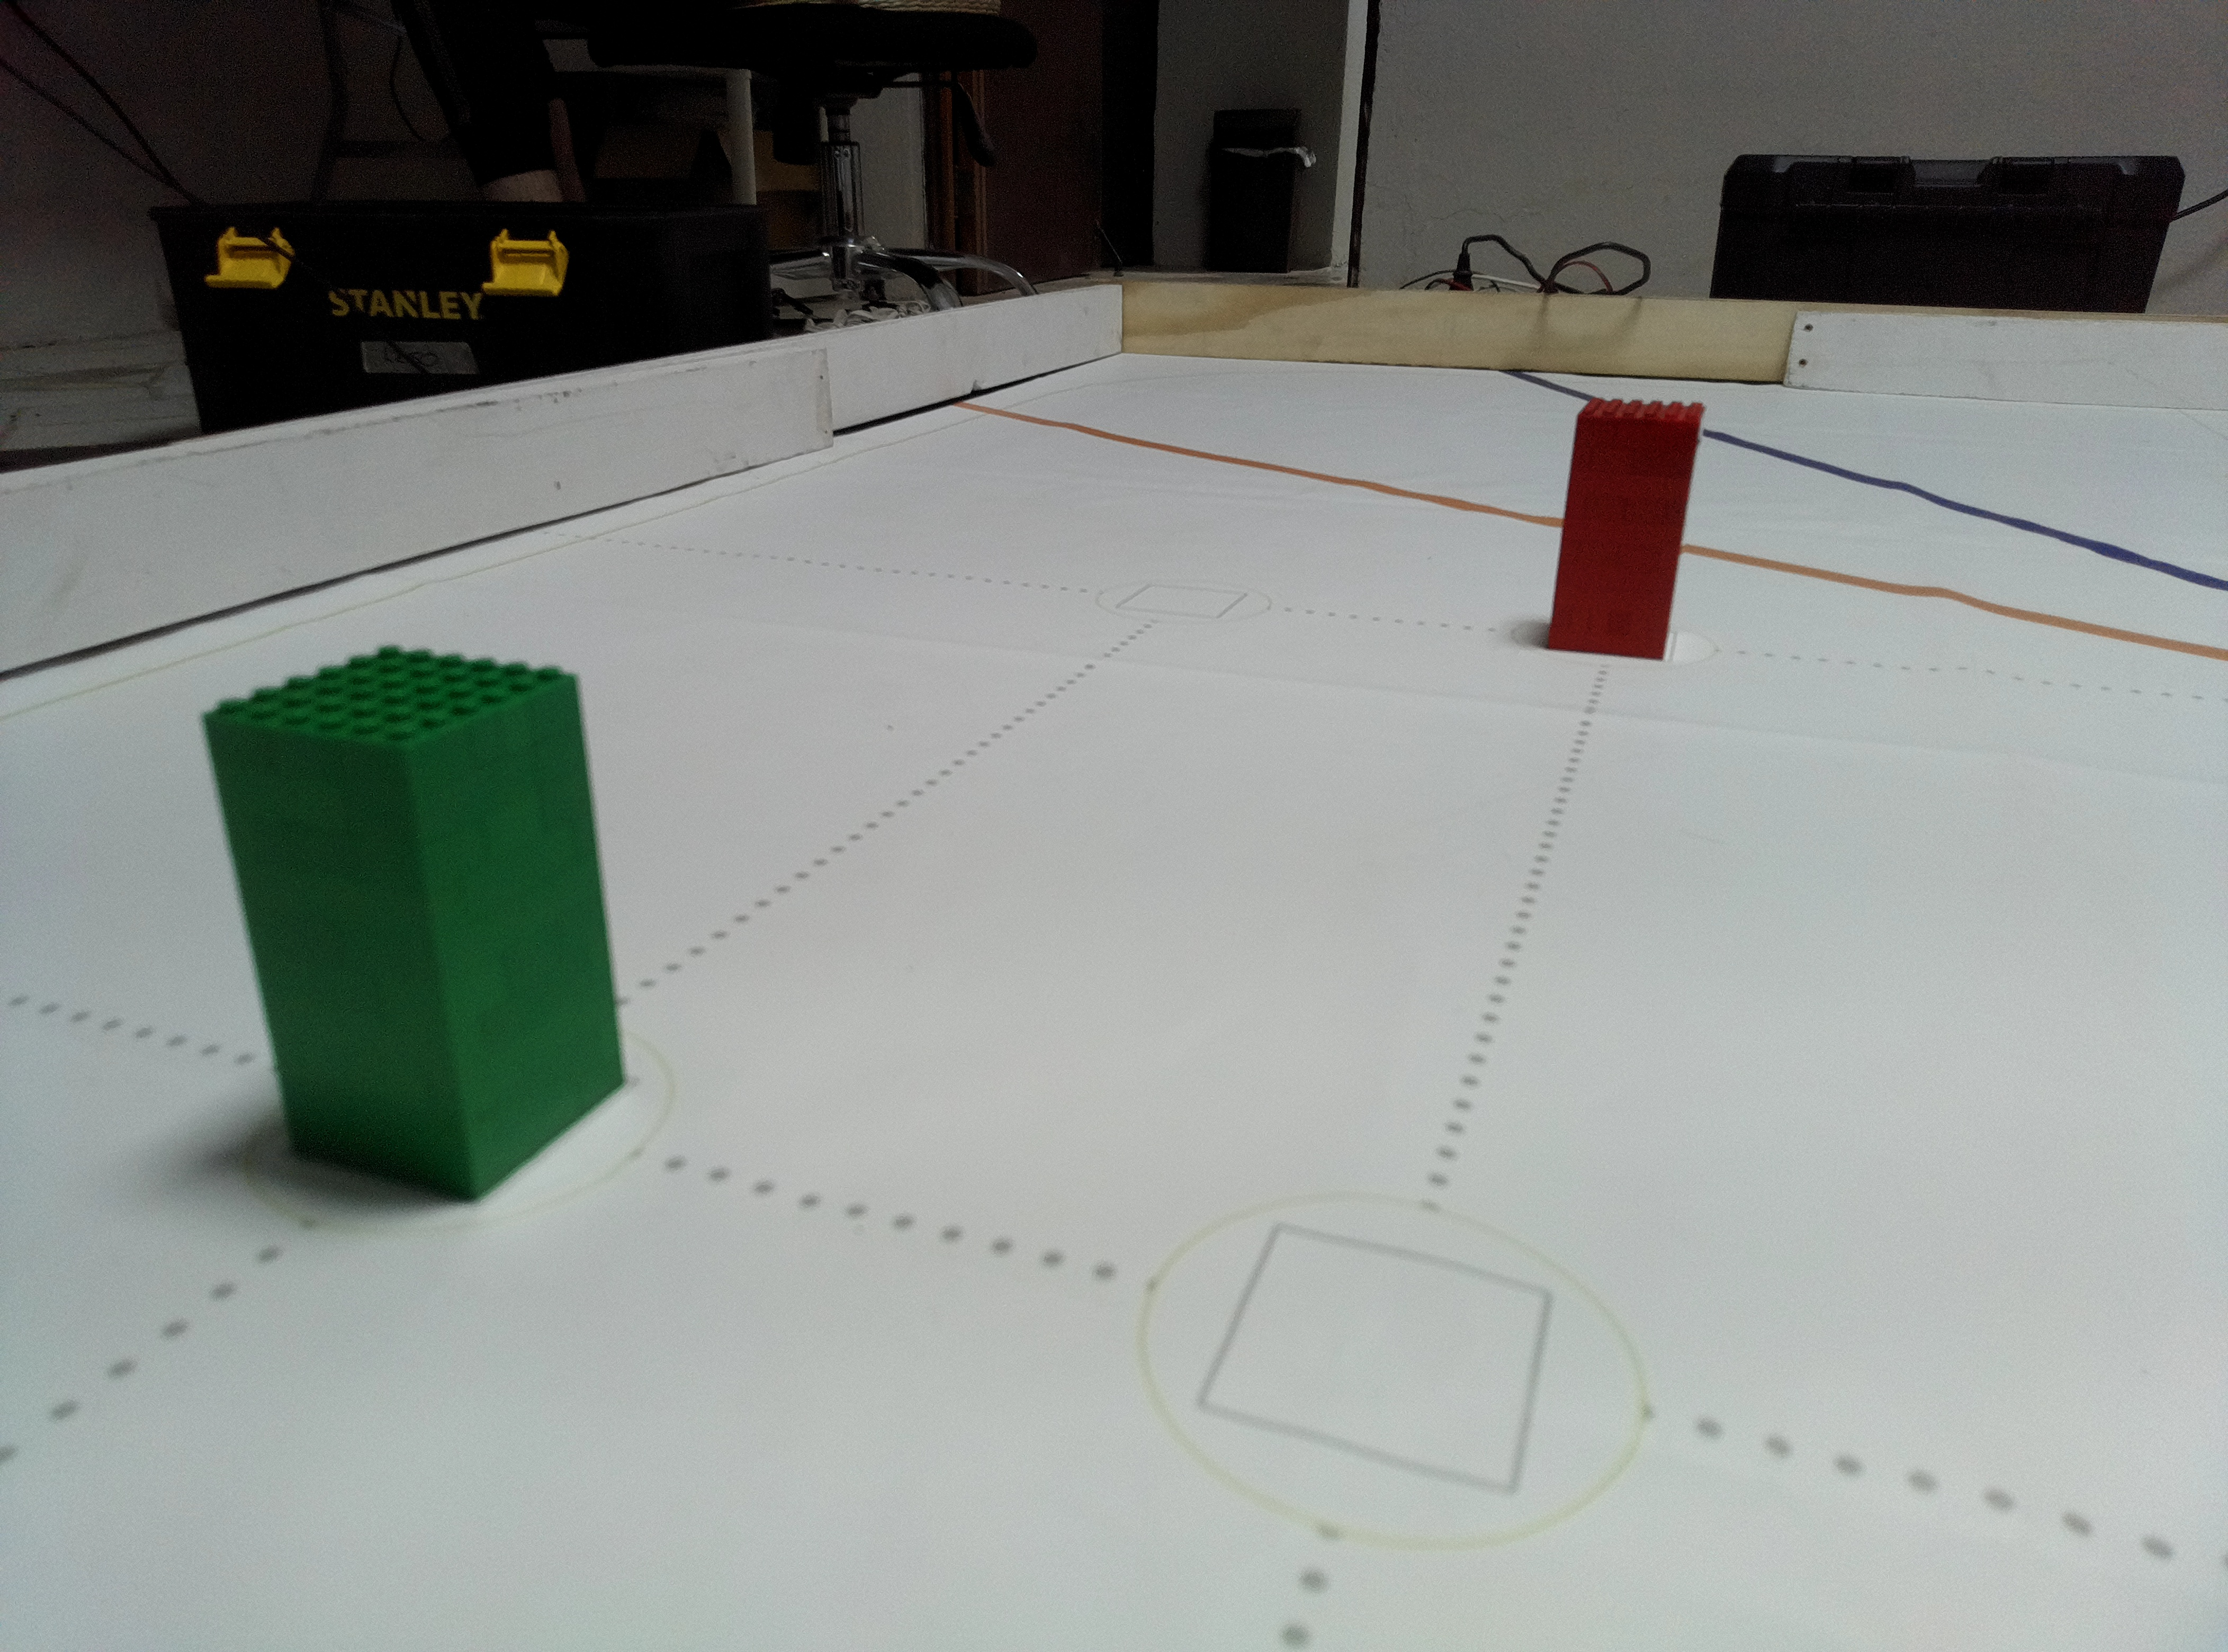greenbox: (193, 635, 637, 1213)
redbox: (1539, 396, 1714, 666)
